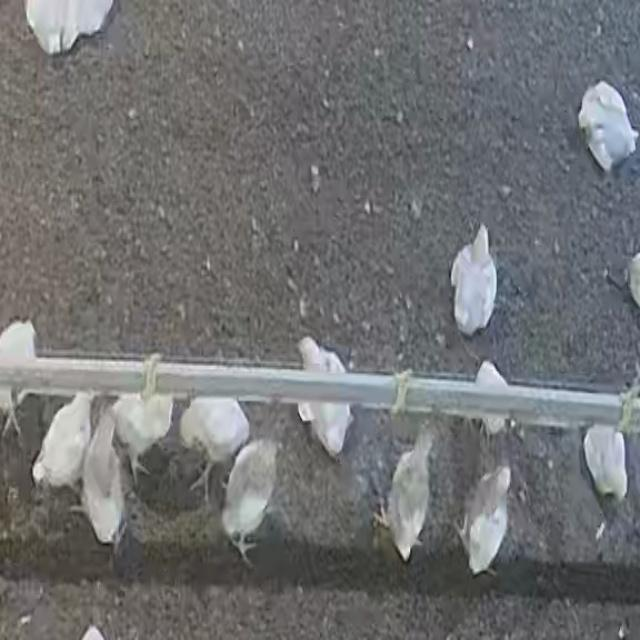chicken: (219, 439, 282, 567), (295, 337, 356, 461), (384, 424, 438, 562), (457, 459, 513, 576), (176, 395, 253, 477), (32, 391, 95, 490), (109, 384, 172, 482), (78, 414, 125, 544), (577, 80, 639, 172), (454, 223, 502, 335), (580, 424, 628, 508), (474, 360, 514, 439)
